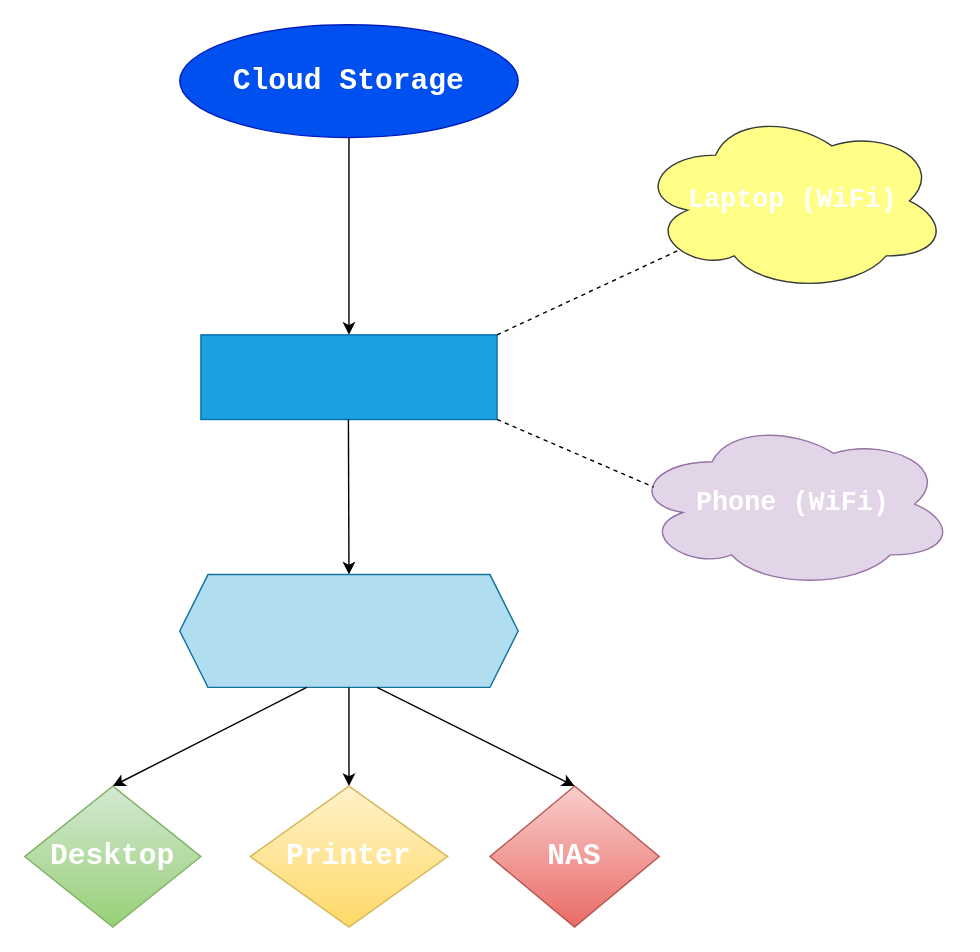
Image size: 980x952. Some labels were removed from this diagram. The centre of each missing label's shape, as x and y in pixels:
Router: the point at 348,376
Switch: the point at 348,630
